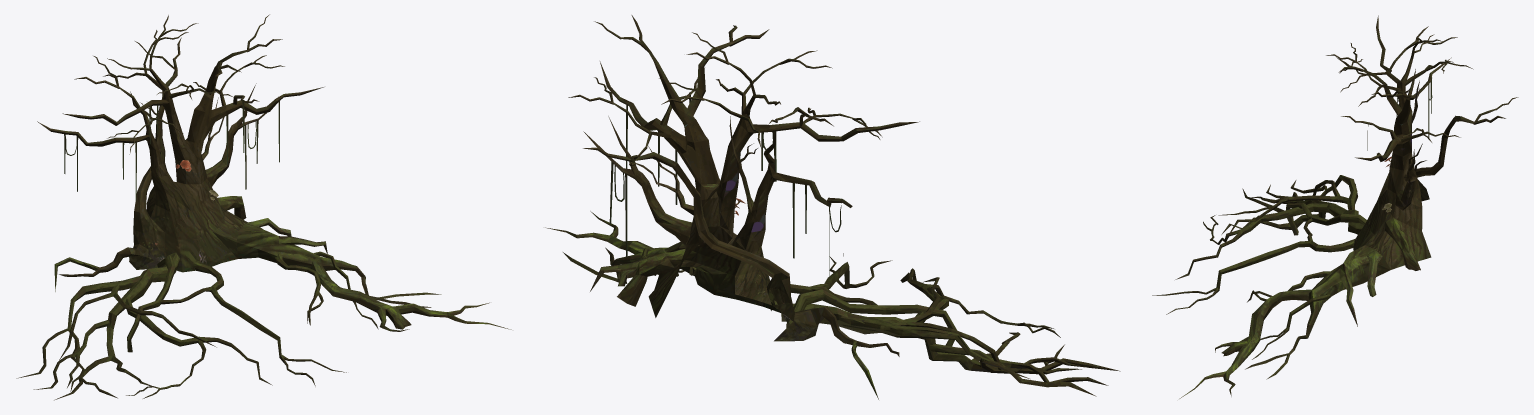
Rendered from 2014_Item_zishu_4.FBX.
3 renders of one model, left to right at view 1: azimuth 30°, elevation 25°; view 2: azimuth 150°, elevation 25°; view 3: azimuth 270°, elevation 25°, orthographic. The views are drawn at different scales.
Visible parts, largest first — view 1: 2014_Item_zishu_4; view 2: 2014_Item_zishu_4; view 3: 2014_Item_zishu_4.
Boxes of the visible parts, bbox=[...] form: 2014_Item_zishu_4: bbox=[16, 14, 511, 400]; 2014_Item_zishu_4: bbox=[545, 15, 1120, 399]; 2014_Item_zishu_4: bbox=[1152, 15, 1518, 398].
Bounding box in the file's own units: 9546 × 7044 × 5495.
